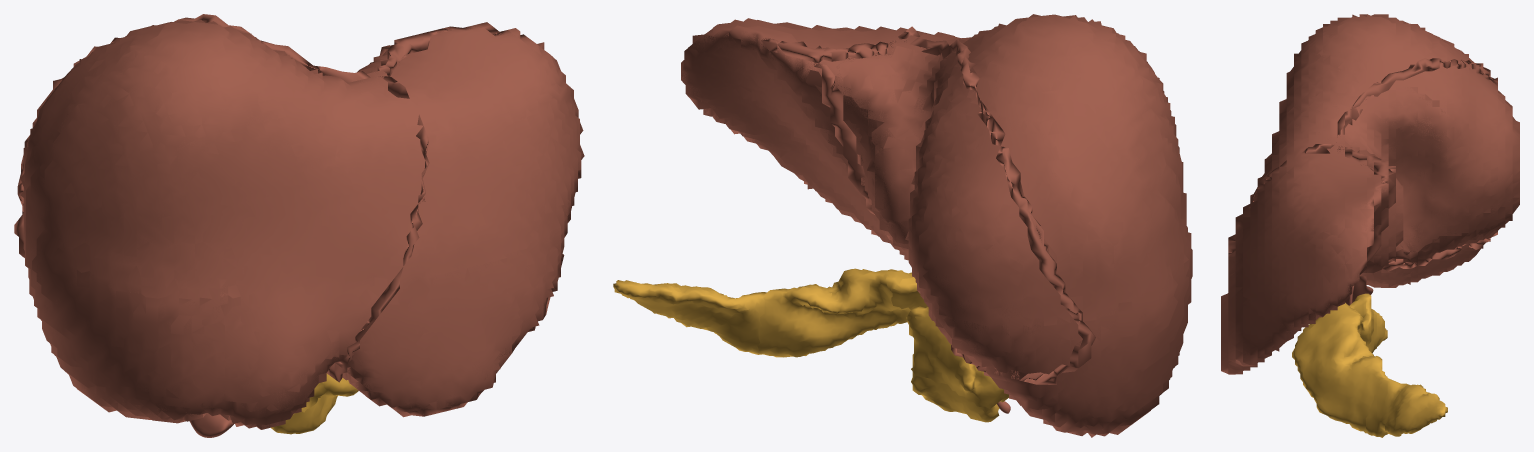
The model's file is bilier.glb.
3 renders of one model, left to right at view 1: azimuth 30°, elevation 25°; view 2: azimuth 150°, elevation 25°; view 3: azimuth 270°, elevation 25°, orthographic. The views are drawn at different scales.
Parts seen in each view (by area): view 1: Capsule of the liver, Right anterosuperior segment, Left superomedial segment1, Left superomedial segment, Right anteroinferior segment, Left anterolateral segment, Left inferomedial segment, Coronary ligament of liver, Falciform ligament, Right posterosuperior segment, Uncinate process, Gallbladder (+1 smaller); view 2: Capsule of the liver, Bare area of liver, Right posterosuperior segment, Body of pancreas, Right anterosuperior segment, Coronary ligament of liver, Right posteroinferior segment, Gastric impression of liver, Tail of pancreas, Diaphragmatic surface of liver, Caudate lobe, Head of pancreas (+8 smaller); view 3: Capsule of the liver, Bare area of liver, Body of pancreas, Left superomedial segment, Right posterosuperior segment, Caudate lobe, Tail of pancreas, Coronary ligament of liver, Left superomedial segment1, Right anterosuperior segment, Diaphragmatic surface of liver, Left anterolateral segment (+7 smaller).
Boxes of the visible parts, box(x1,y1,x2,y2) form: Capsule of the liver: box(20, 20, 584, 429); Right anterosuperior segment: box(41, 22, 292, 299); Left superomedial segment1: box(220, 56, 425, 298); Left superomedial segment: box(373, 25, 581, 281); Right anteroinferior segment: box(37, 249, 224, 422); Left anterolateral segment: box(349, 234, 563, 417); Left inferomedial segment: box(200, 277, 389, 429); Coronary ligament of liver: box(14, 14, 406, 257); Falciform ligament: box(335, 76, 429, 371); Right posterosuperior segment: box(20, 22, 168, 239); Uncinate process: box(271, 395, 337, 434); Gallbladder: box(189, 413, 233, 437); Capsule of the liver: box(681, 14, 1192, 436); Bare area of liver: box(810, 46, 1082, 376); Right posterosuperior segment: box(908, 63, 1156, 334); Body of pancreas: box(757, 268, 912, 357); Right anterosuperior segment: box(948, 14, 1188, 285); Coronary ligament of liver: box(824, 37, 1095, 384); Right posteroinferior segment: box(917, 290, 1158, 437); Gastric impression of liver: box(727, 64, 906, 254); Tail of pancreas: box(613, 280, 764, 354); Diaphragmatic surface of liver: box(681, 32, 1121, 434); Caudate lobe: box(835, 49, 955, 252); Head of pancreas: box(906, 306, 1008, 408); Capsule of the liver: box(1221, 14, 1490, 374); Bare area of liver: box(1345, 65, 1519, 259); Body of pancreas: box(1292, 309, 1387, 433); Left superomedial segment: box(1235, 153, 1386, 330); Right posterosuperior segment: box(1418, 25, 1519, 215); Caudate lobe: box(1345, 87, 1454, 275); Tail of pancreas: box(1366, 378, 1447, 437); Coronary ligament of liver: box(1337, 58, 1497, 271); Left superomedial segment1: box(1250, 53, 1359, 206); Right anterosuperior segment: box(1287, 14, 1417, 102); Diaphragmatic surface of liver: box(1228, 182, 1505, 374); Left anterolateral segment: box(1221, 266, 1297, 373).
Bounding box in the file's own units: 2 × 1.53 × 1.29.
